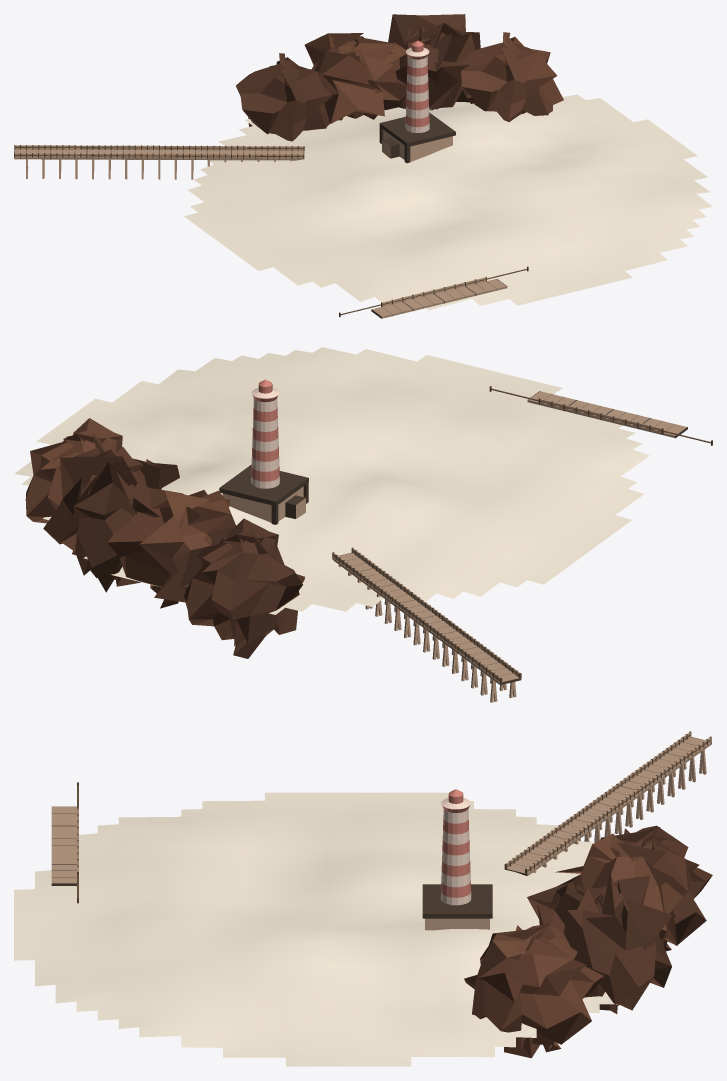
File: stage13.glb
3 views of the same model, one above another, from view 1: azimuth 30°, elevation 25°; view 2: azimuth 150°, elevation 25°; view 3: azimuth 270°, elevation 25° (orthographic). The views are drawn at different scales.
Parts seen in each view (by area): view 1: Landscape.001, Rocks.001, Rocks.003, Rocks, Rocks.002, Cube.035, Lighthouse, Cube.003, Cube.012, Lighthousehouse; view 2: Landscape.001, Rocks, Rocks.002, Rocks.001, Rocks.003, Cube.035, Lighthouse, Cube.012, Cube.003, Lighthousehouse; view 3: Landscape.001, Rocks.003, Rocks.002, Rocks.001, Cube.035, Lighthouse, Rocks, Cube.003, Cube.012, Lighthousehouse.
Part boxes in pixels (x1,y1,x2,y2): Landscape.001: (184, 94, 712, 310); Rocks.001: (304, 33, 406, 123); Rocks.003: (458, 32, 563, 121); Rocks: (236, 53, 331, 141); Rocks.002: (388, 14, 480, 110); Cube.035: (14, 149, 303, 160); Lighthouse: (405, 40, 429, 132); Cube.003: (372, 279, 506, 318); Cube.012: (379, 112, 455, 147); Lighthousehouse: (382, 130, 452, 161); Landscape.001: (14, 347, 649, 614); Rocks: (184, 518, 304, 658); Rocks.002: (43, 446, 179, 592); Rocks.001: (107, 486, 236, 608); Rocks.003: (25, 418, 122, 555); Cube.035: (332, 553, 518, 684); Lighthouse: (251, 379, 279, 488); Cube.012: (219, 464, 308, 505); Cube.003: (528, 391, 686, 437); Lighthousehouse: (222, 486, 305, 522); Landscape.001: (14, 792, 617, 1066); Rocks.003: (464, 924, 603, 1058); Rocks.002: (527, 870, 672, 1013); Rocks.001: (555, 833, 691, 945); Cube.035: (507, 737, 711, 875); Lighthouse: (440, 789, 471, 905); Rocks: (600, 825, 712, 951); Cube.003: (51, 807, 76, 883); Cube.012: (422, 884, 492, 918); Lighthousehouse: (425, 918, 489, 930).
Size of what is drawn, in the model's own units: 292 by 87.1 by 270.
